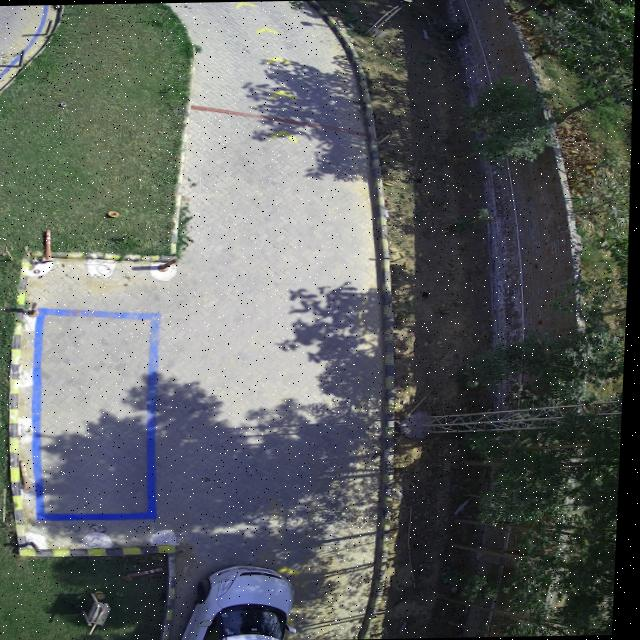car: (185, 565, 297, 640)
